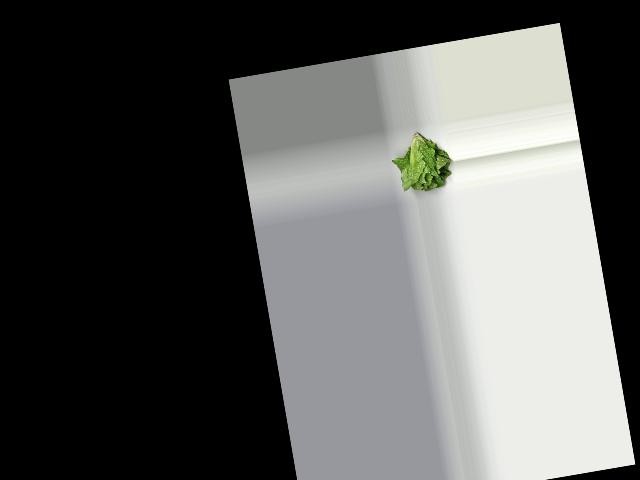lettuce: (393, 125, 454, 198)
